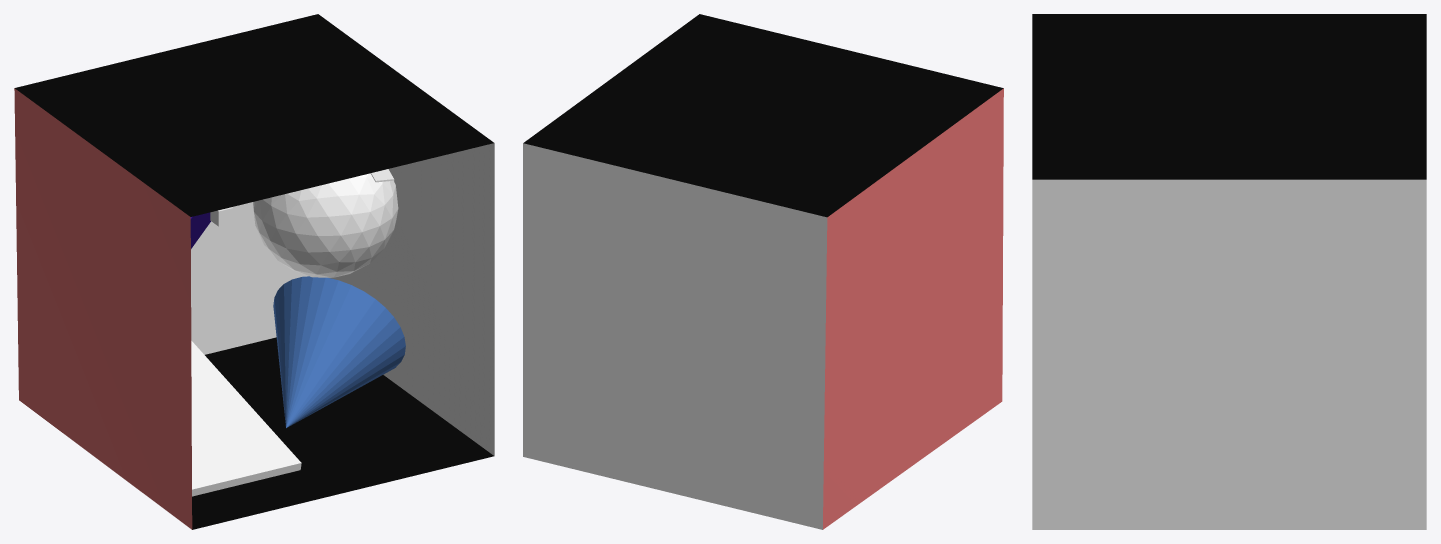
The model's file is CornelBox.obj.
3 renders of one model, left to right at view 1: azimuth 30°, elevation 25°; view 2: azimuth 150°, elevation 25°; view 3: azimuth 270°, elevation 25°, orthographic. The views are drawn at different scales.
Visible parts, largest first — view 1: Cube_Cube.001; view 2: Cube_Cube.001; view 3: Cube_Cube.001.
Boxes of the visible parts, bbox=[...] form: Cube_Cube.001: bbox=[14, 14, 494, 529]; Cube_Cube.001: bbox=[523, 14, 1003, 529]; Cube_Cube.001: bbox=[1032, 14, 1426, 529].
Size of the model in its own units: 2.02 by 1.99 by 2.03.
